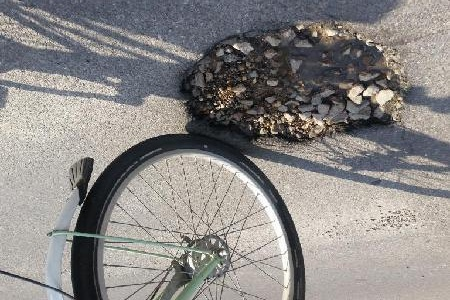pothole: (175, 21, 408, 146)
